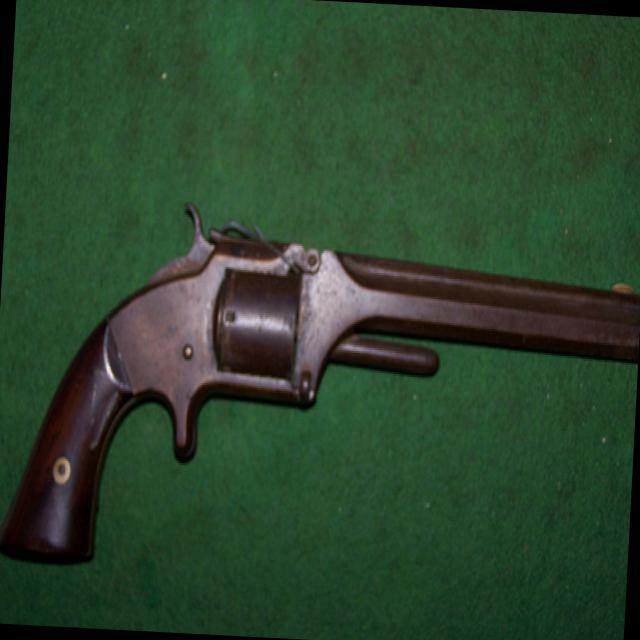handgun: (0, 193, 639, 596)
